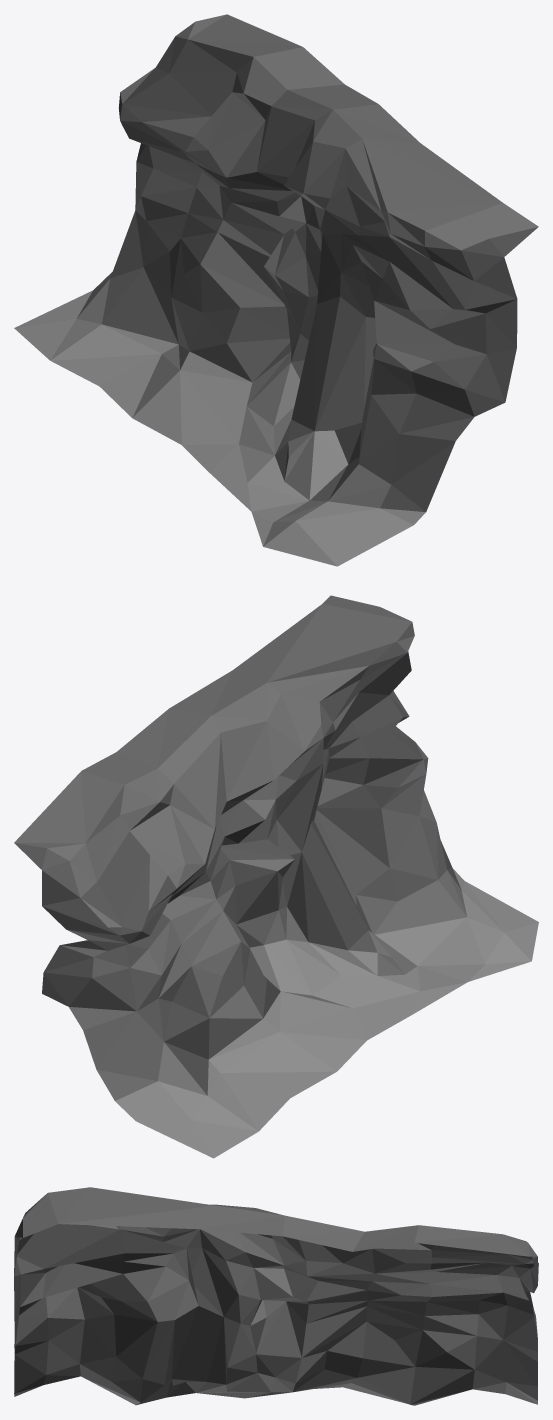
Rendered from rock_1.fbx.
3 renders of one model, top to bottom at view 1: azimuth 30°, elevation 25°; view 2: azimuth 150°, elevation 25°; view 3: azimuth 270°, elevation 25°, orthographic. The views are drawn at different scales.
Visible parts, largest first — view 1: Object.013; view 2: Object.013; view 3: Object.013.
Part boxes in pixels (x1,y1,x2,y2): Object.013: (14,14,538,566); Object.013: (14,595,538,1158); Object.013: (14,1187,538,1405).
Bounding box in the file's own units: 797 × 911 × 1796.
